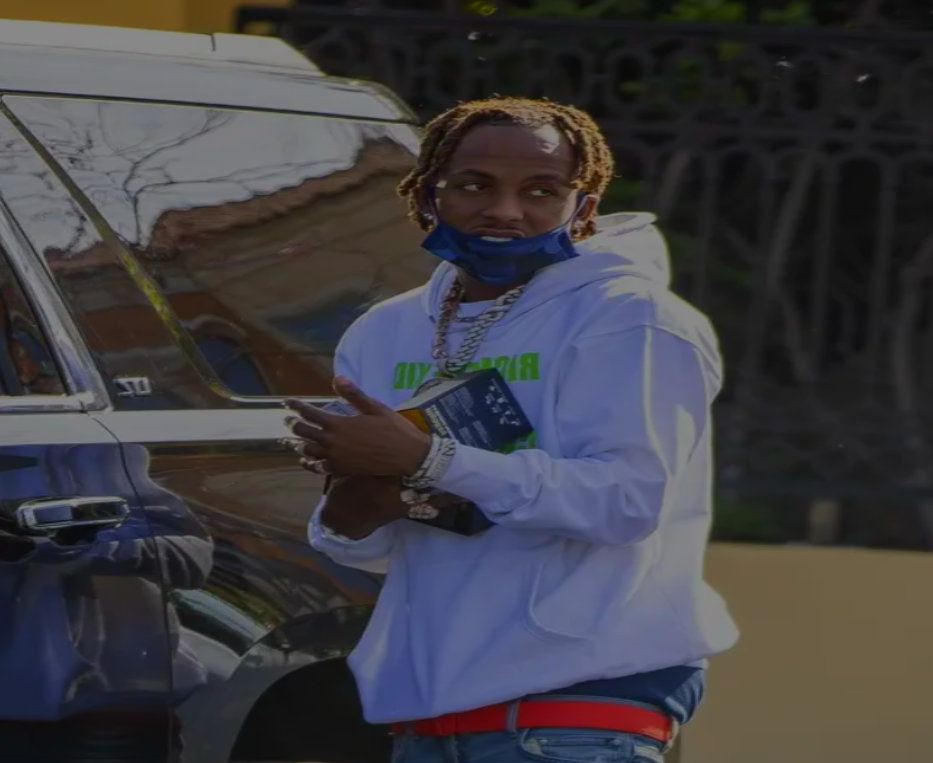mask_weared_incorrect: (400, 97, 612, 288)
